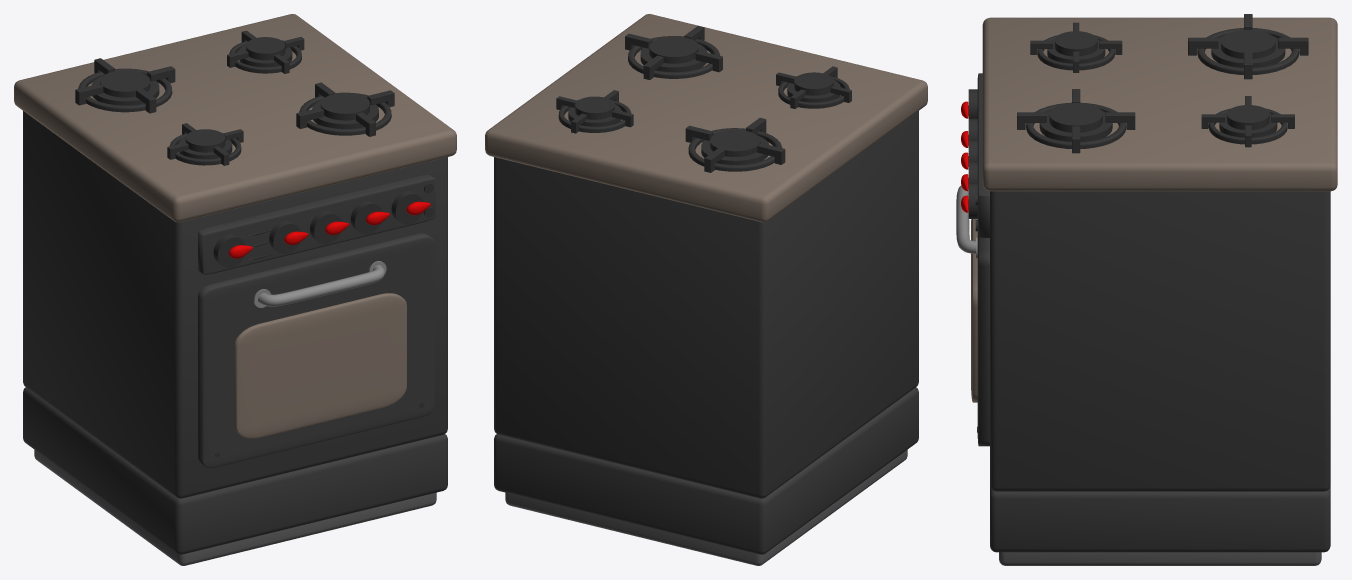
The model's file is Stove 1.fbx.
3 renders of one model, left to right at view 1: azimuth 30°, elevation 25°; view 2: azimuth 150°, elevation 25°; view 3: azimuth 270°, elevation 25°, orthographic. The views are drawn at different scales.
Visible parts, largest first — view 1: Cube, Cube.003, Cube.001, Cube.004, Cube.006, Cube.005, Cube.002, Cylinder.013, Cylinder.016, NurbsPath, Cylinder.015, Cylinder.014 (+9 smaller); view 2: Cube, Cube.003, Cube.001, Cube.002, Cylinder.013, Cylinder.016, Cylinder.015, Cylinder.014, Circle, Circle.001, Circle.002, Circle.003; view 3: Cube, Cube.003, Cube.001, Cube.002, Cube.004, Cylinder.013, Cylinder.016, Cylinder.015, Cylinder.014, Cube.005, Circle, Cube.006 (+4 smaller).
Boxes of the visible parts, x1,y1,x2,y2 form: Cube: [23, 111, 447, 498]; Cube.003: [14, 14, 456, 222]; Cube.001: [23, 387, 447, 554]; Cube.004: [198, 233, 435, 468]; Cube.006: [234, 293, 406, 438]; Cube.005: [198, 175, 435, 274]; Cube.002: [34, 450, 436, 565]; Cylinder.013: [312, 93, 378, 128]; Cylinder.016: [91, 70, 159, 105]; NurbsPath: [258, 265, 384, 306]; Cylinder.015: [239, 37, 292, 67]; Cylinder.014: [178, 129, 232, 158]; Cube: [494, 111, 918, 498]; Cube.003: [485, 14, 927, 222]; Cube.001: [494, 387, 918, 554]; Cube.002: [505, 450, 907, 565]; Cylinder.013: [640, 36, 707, 72]; Cylinder.016: [701, 130, 769, 164]; Cylinder.015: [568, 96, 621, 126]; Cylinder.014: [787, 72, 840, 102]; Circle: [688, 128, 782, 171]; Circle.001: [628, 36, 719, 78]; Circle.002: [558, 100, 631, 132]; Circle.003: [778, 76, 849, 108]; Cube: [990, 191, 1330, 491]; Cube.003: [982, 17, 1337, 191]; Cube.001: [990, 485, 1330, 552]; Cube.002: [999, 552, 1321, 565]; Cube.004: [977, 234, 989, 446]; Cylinder.013: [1039, 103, 1112, 141]; Cylinder.016: [1211, 30, 1285, 67]; Cylinder.015: [1219, 105, 1277, 137]; Cylinder.014: [1047, 31, 1105, 63]; Cube.005: [977, 73, 989, 237]; Circle: [1197, 28, 1299, 74]; Cube.006: [971, 219, 977, 402].
Bounding box in the file's own units: 417 × 448 × 549.
